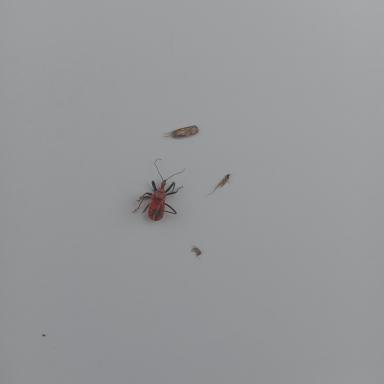pbw: (161, 124, 200, 138)
